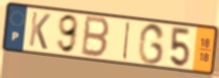5: (168, 26, 191, 69)
9: (54, 13, 80, 55)
B: (79, 14, 112, 60)
G: (136, 22, 167, 66)
I: (121, 20, 132, 61)
K: (27, 10, 52, 52)
